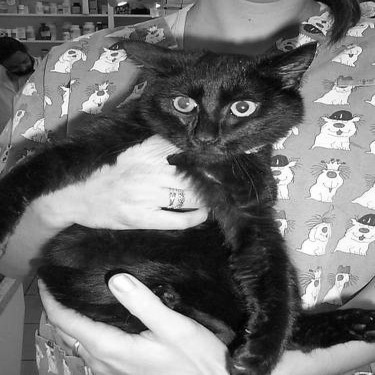cat: (4, 38, 371, 372)
